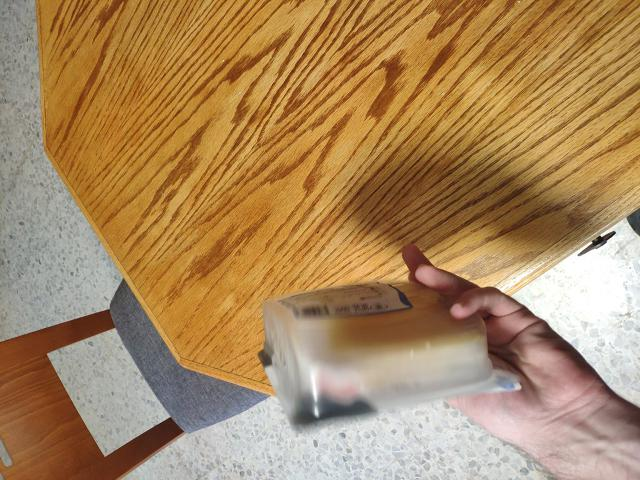cheese: (276, 284, 476, 413)
